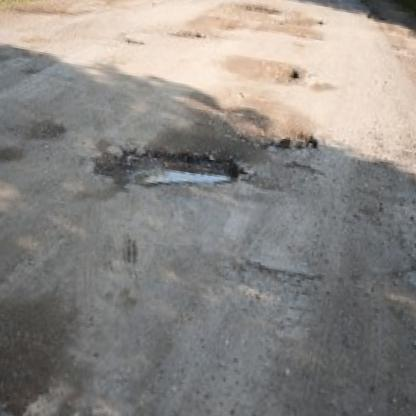pothole: (103, 133, 248, 202), (215, 115, 320, 158), (239, 59, 299, 86)
